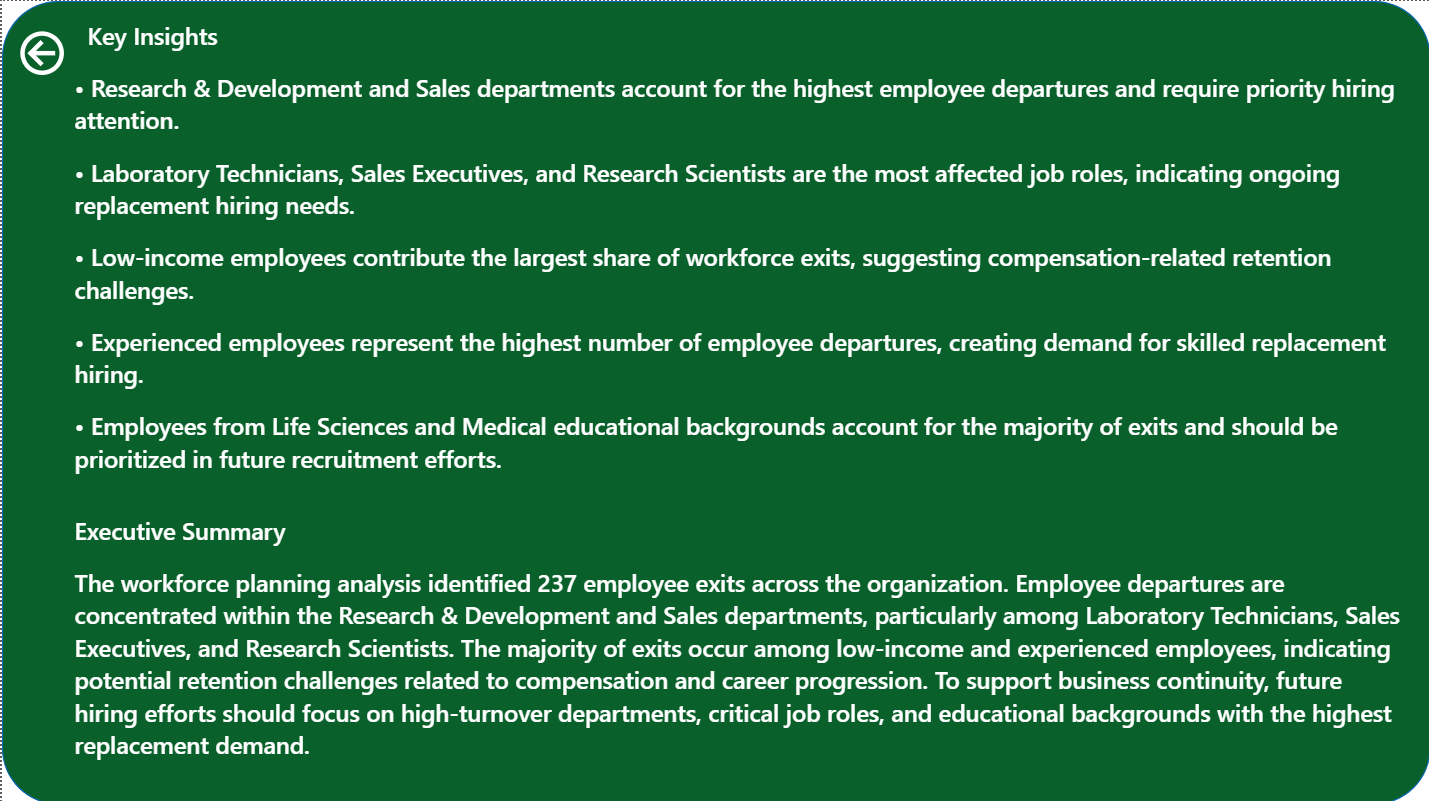

What the dashboard file says about the page in this screenshot:
{"tool":"powerbi","page":{"name":"Hiring Insights","canvas":[1280,720],"ordinal":3},"visuals":[{"type":"shape","box":[0,0,1280,720],"z":0},{"type":"textbox","box":[60.5,10.9,1199,694.5],"z":1000},{"type":"actionButton","box":[10.9,20.6,49.6,50.8],"z":2000}]}

Visuals, with their boxes in screenshot pixels (x1, y1, x2, y2), scaled from the page's 1280x720 canvas onto the 1429x801 screenshot:
shape: bbox(0, 0, 1428, 800)
textbox: bbox(68, 12, 1406, 785)
actionButton: bbox(12, 23, 68, 79)
